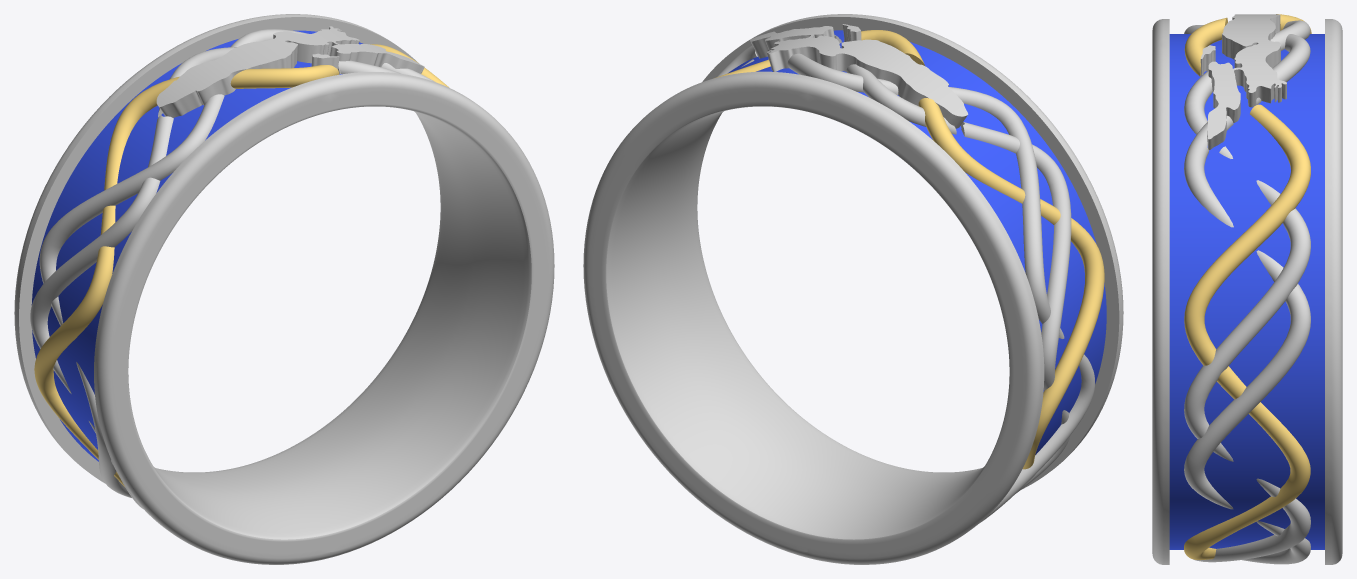
File: SaraPTwbJamestown_blender.glb
The picture shows the model from 3 angles, left to right: view 1: azimuth 30°, elevation 25°; view 2: azimuth 150°, elevation 25°; view 3: azimuth 270°, elevation 25°; orthographic projection. The views are drawn at different scales.
Parts seen in each view (by area): view 1: Sara PT for 3d model, Sara black for 3d model, Sara YG vines for 3d model; view 2: Sara PT for 3d model, Sara black for 3d model, Sara YG vines for 3d model; view 3: Sara black for 3d model, Sara PT for 3d model, Sara YG vines for 3d model.
Part boxes in pixels (box(x1,y1,x2,y2)): Sara PT for 3d model: box(14, 14, 554, 564); Sara black for 3d model: box(31, 30, 362, 461); Sara YG vines for 3d model: box(34, 44, 449, 486); Sara PT for 3d model: box(583, 14, 1123, 564); Sara black for 3d model: box(728, 30, 1106, 454); Sara YG vines for 3d model: box(714, 30, 1104, 469); Sara black for 3d model: box(1169, 34, 1324, 549); Sara PT for 3d model: box(1152, 14, 1342, 564); Sara YG vines for 3d model: box(1184, 14, 1311, 560).
Size of the model in its own units: 24.73 by 24.66 by 8.5.
